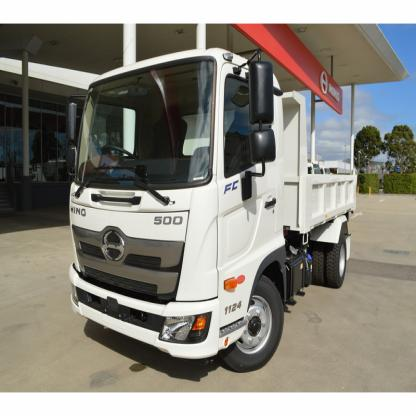dump_truck: (61, 43, 372, 372)
